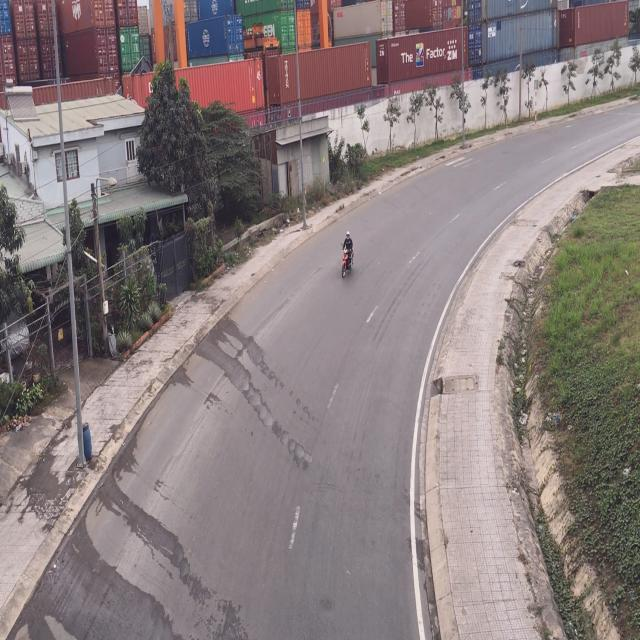motorbike: (340, 232, 357, 284)
